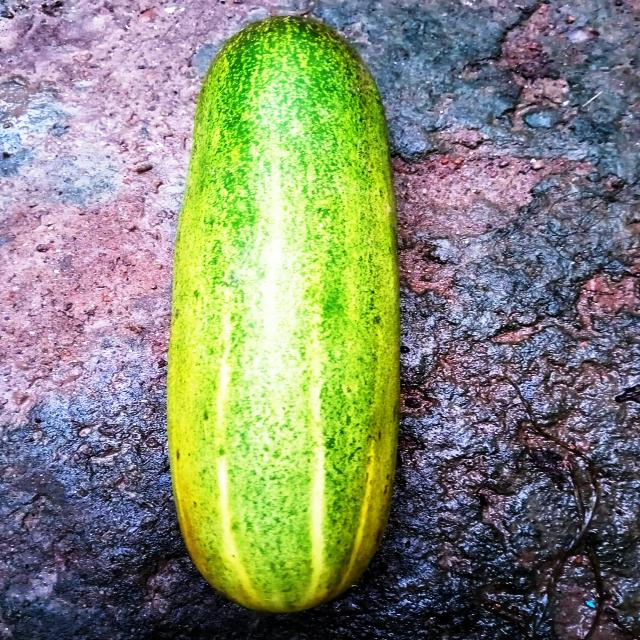Fresh-Cucumber: (164, 12, 404, 616)
